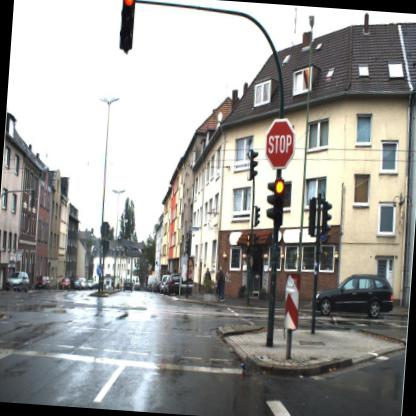other: (262, 113, 299, 176)
